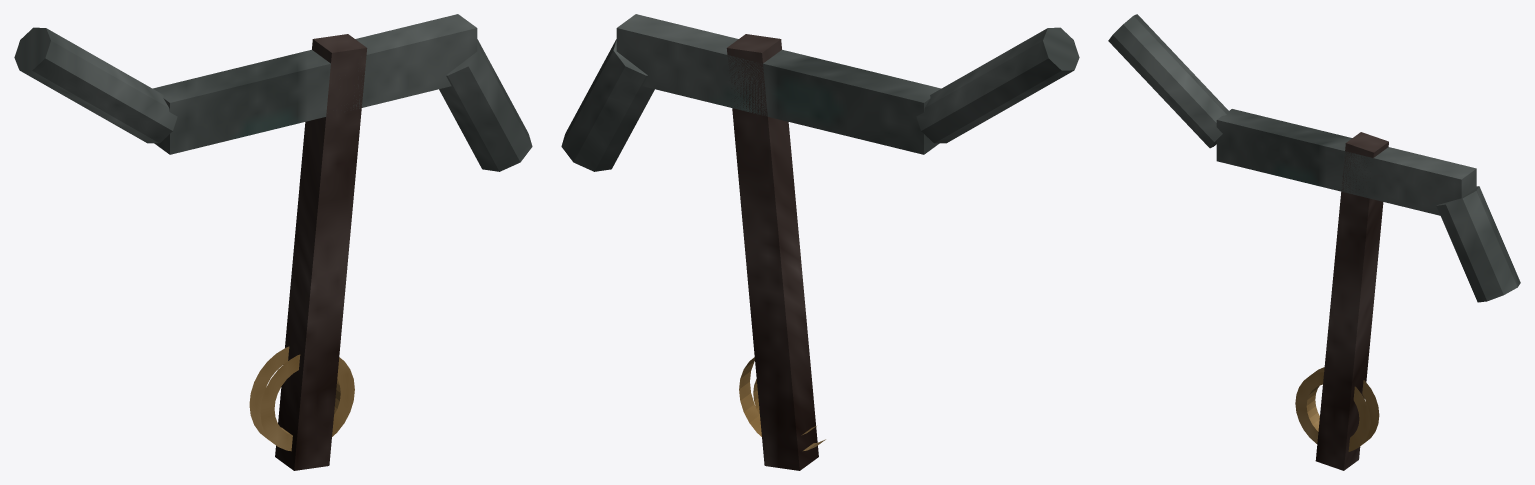
Rendered from 0887_climbing_axe_12.glb.
3 views of the same model, side by side, from view 1: azimuth 30°, elevation 25°; view 2: azimuth 150°, elevation 25°; view 3: azimuth 330°, elevation 25° (orthographic). The views are drawn at different scales.
Visible parts, largest first — view 1: iron, wood_dark, brass; view 2: iron, wood_dark, brass; view 3: iron, wood_dark, brass.
Part boxes in pixels (box(x1,y1,x2,y2)): iron: box(14, 14, 532, 171); wood_dark: box(275, 34, 367, 470); brass: box(249, 346, 354, 451); iron: box(561, 14, 1079, 171); wood_dark: box(726, 34, 818, 470); brass: box(739, 357, 825, 450); iron: box(1108, 14, 1520, 302); wood_dark: box(1315, 132, 1388, 470); brass: box(1295, 367, 1379, 451).
Bounding box in the file's own units: 1.08 × 1.01 × 0.11.
Materials: 3 (3 with a texture image).
